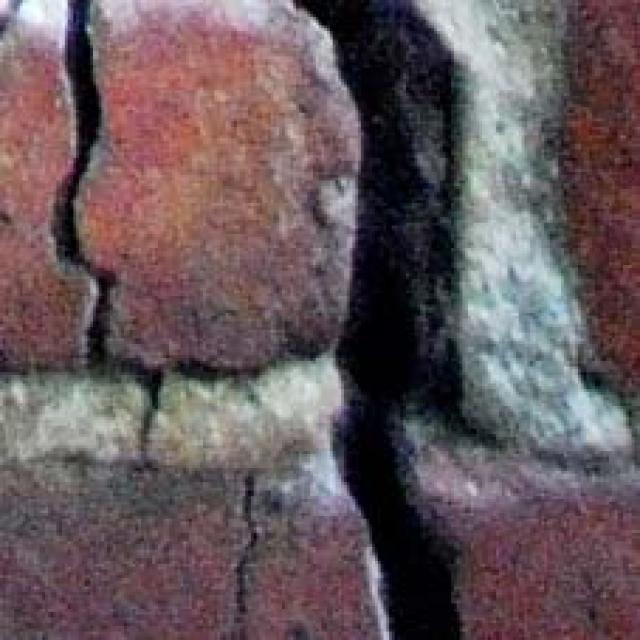Crack: (28, 0, 535, 640)
